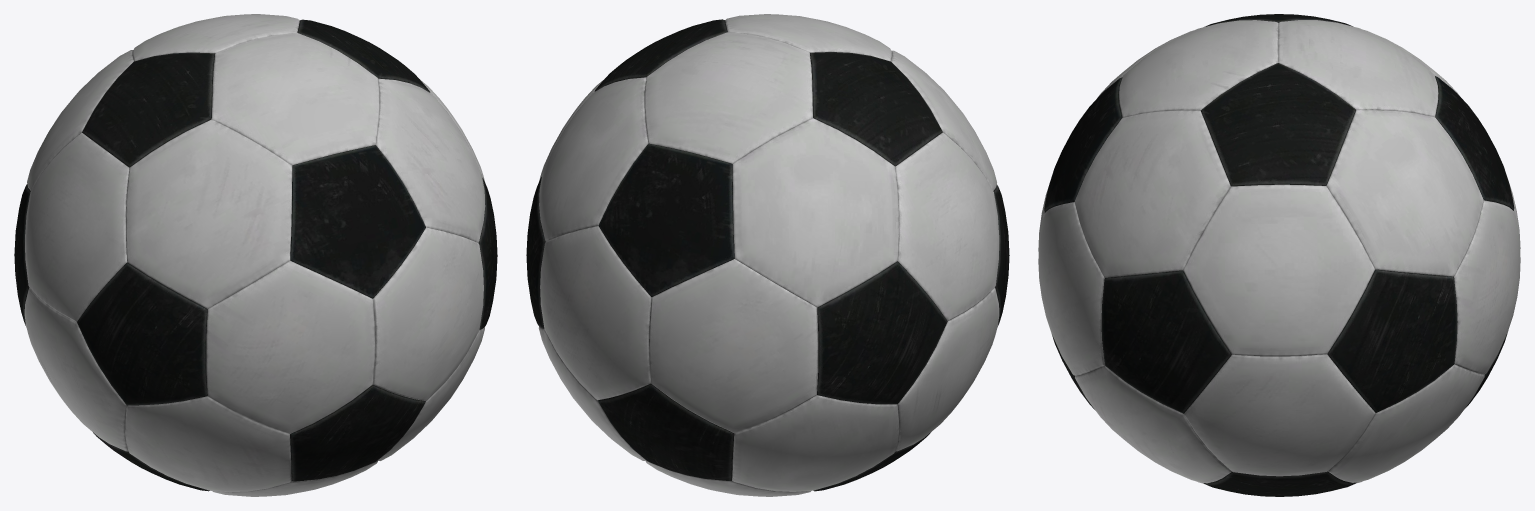
Rendered from ball.glb.
3 views of the same model, side by side, from view 1: azimuth 30°, elevation 25°; view 2: azimuth 150°, elevation 25°; view 3: azimuth 270°, elevation 25° (orthographic).
Visible parts, largest first — view 1: ball; view 2: ball; view 3: ball.
Boxes of the visible parts, x1,y1,x2,y2 form: ball: (14,14,497,496); ball: (526,14,1009,496); ball: (1038,14,1520,496).
Size of the model in its own units: 0.2201 by 0.2201 by 0.2201.
1 material, 1 textured.
